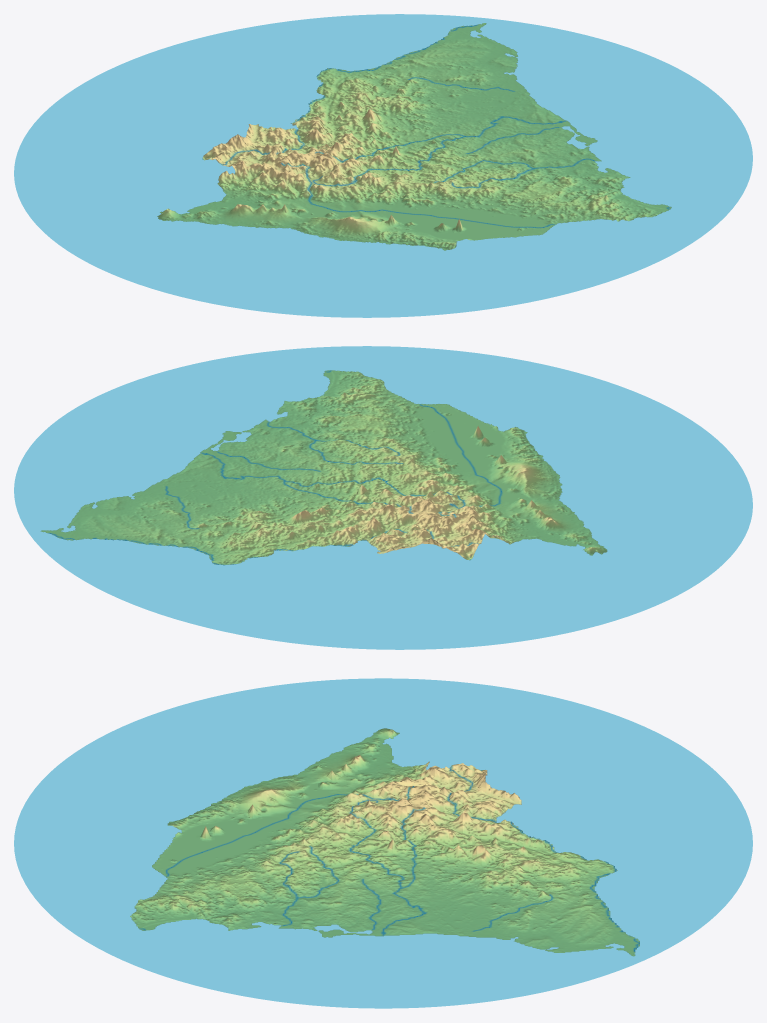
File: NIC-terrain.glb
3 views of the same model, one above another, from view 1: azimuth 30°, elevation 25°; view 2: azimuth 150°, elevation 25°; view 3: azimuth 270°, elevation 25° (orthographic). The views are drawn at different scales.
Parts seen in each view (by area): view 1: Relevo com hidrografia; view 2: Relevo com hidrografia; view 3: Relevo com hidrografia.
Part boxes in pixels (x1,y1,x2,y2): Relevo com hidrografia: (14,14,752,317); Relevo com hidrografia: (14,346,752,649); Relevo com hidrografia: (14,678,752,1008).
Size of the model in its own units: 2.33 by 0.0698 by 2.2.
2 materials, 1 textured.
